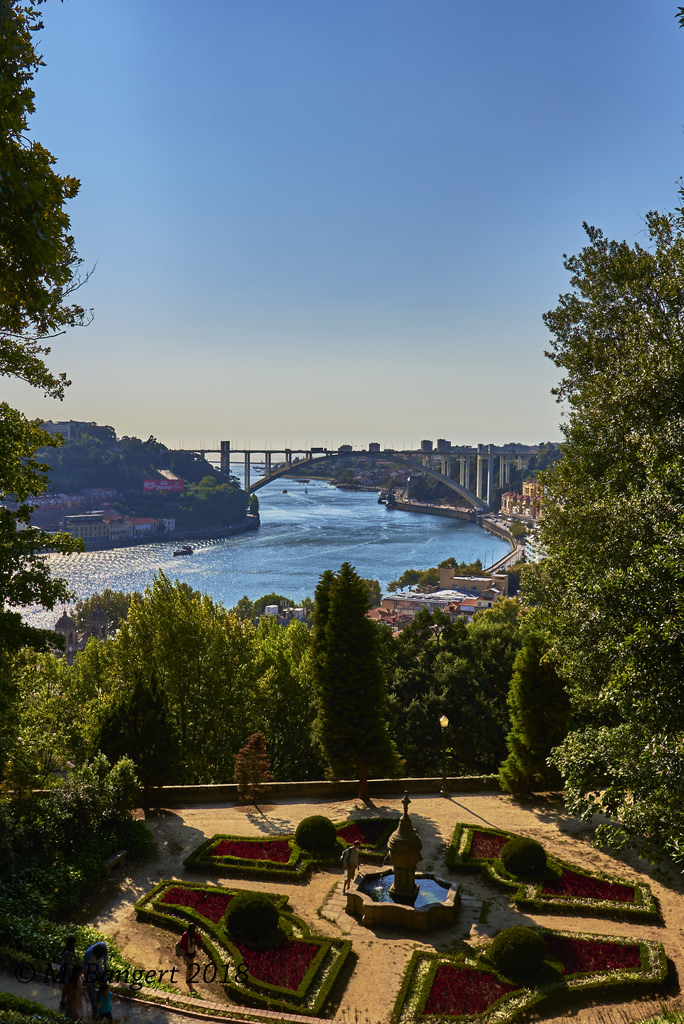arrabida: (181, 438, 555, 514)
